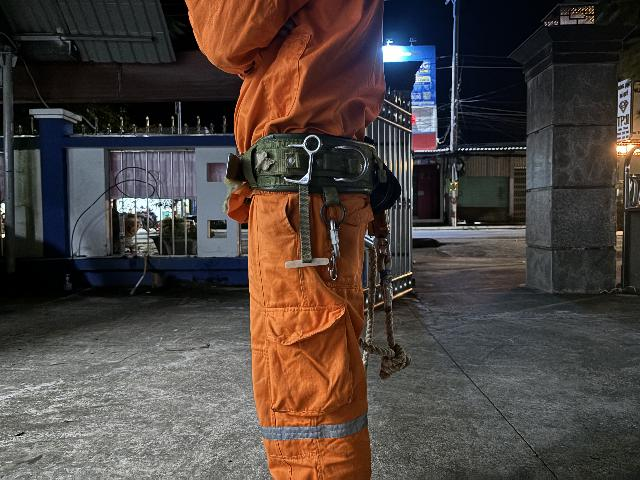harness: (223, 115, 405, 218)
